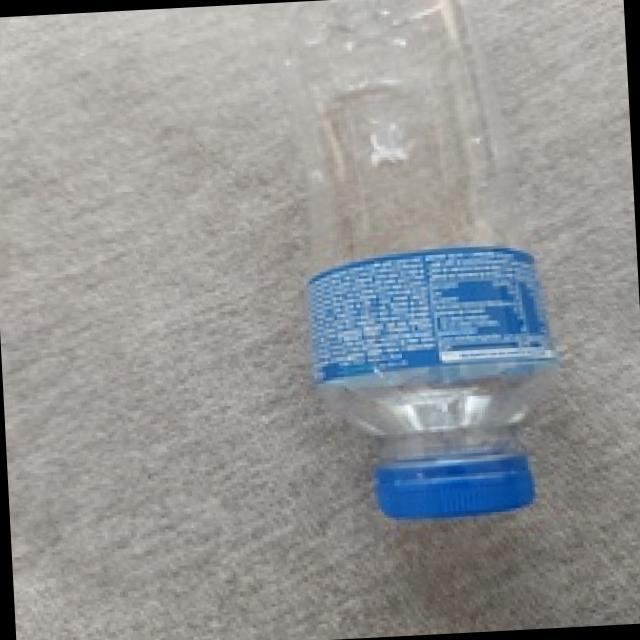good: (276, 0, 572, 556)
